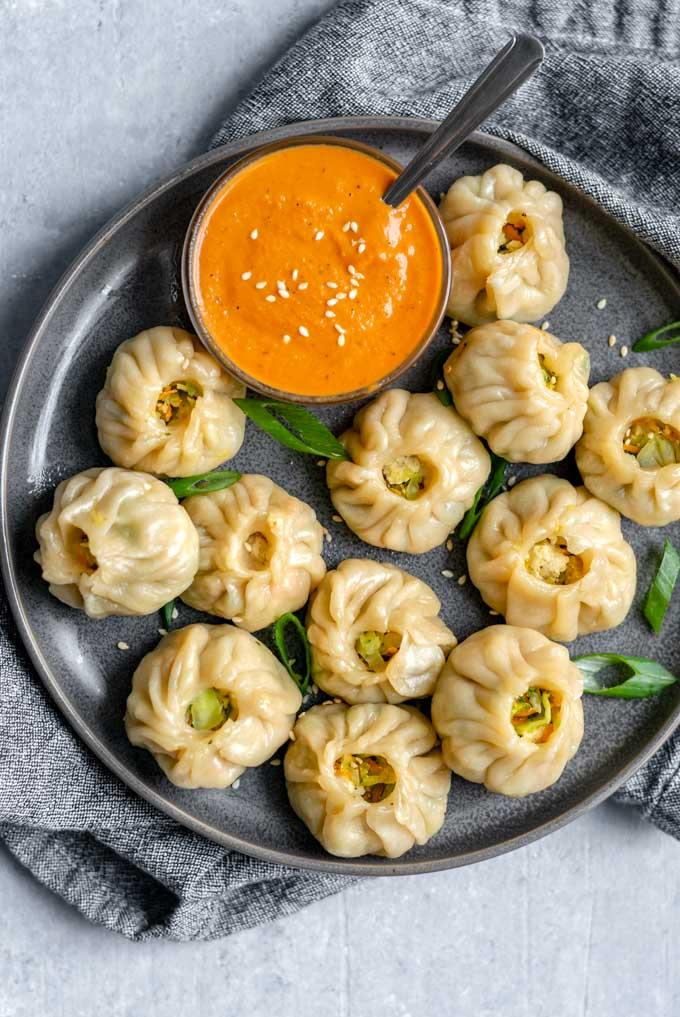momos: (125, 624, 302, 788), (467, 475, 638, 642), (326, 389, 491, 553), (431, 626, 584, 797), (284, 703, 451, 858), (34, 467, 199, 619), (95, 326, 246, 477), (181, 475, 326, 632), (443, 320, 590, 463), (439, 165, 570, 325), (308, 558, 445, 703), (340, 389, 491, 496), (163, 471, 242, 501)
